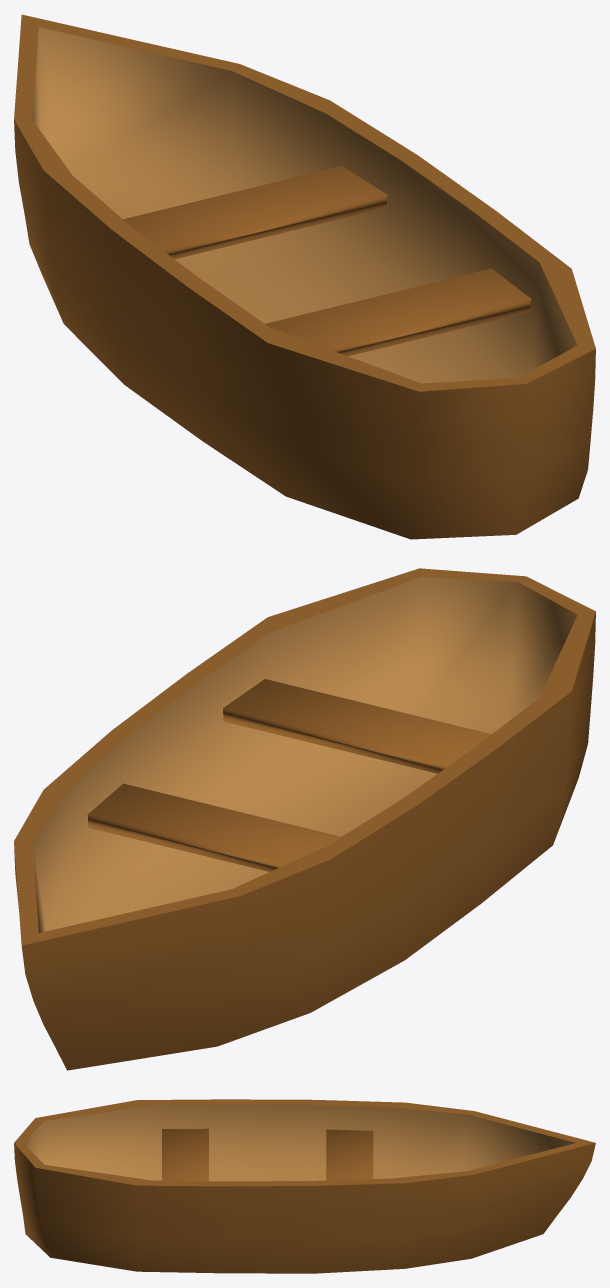
The model's file is SM_WoodenBoat_001.fbx.
The picture shows the model from 3 angles, top to bottom: view 1: azimuth 30°, elevation 25°; view 2: azimuth 150°, elevation 25°; view 3: azimuth 270°, elevation 25°; orthographic projection. The views are drawn at different scales.
Visible parts, largest first — view 1: WoodenBoat; view 2: WoodenBoat; view 3: WoodenBoat.
Boxes of the visible parts, x1=… form: WoodenBoat: x1=14, y1=14, x2=595, y2=539; WoodenBoat: x1=14, y1=568, x2=595, y2=1070; WoodenBoat: x1=14, y1=1099, x2=595, y2=1273.
Size of the model in its own units: 90 by 44 by 254.
